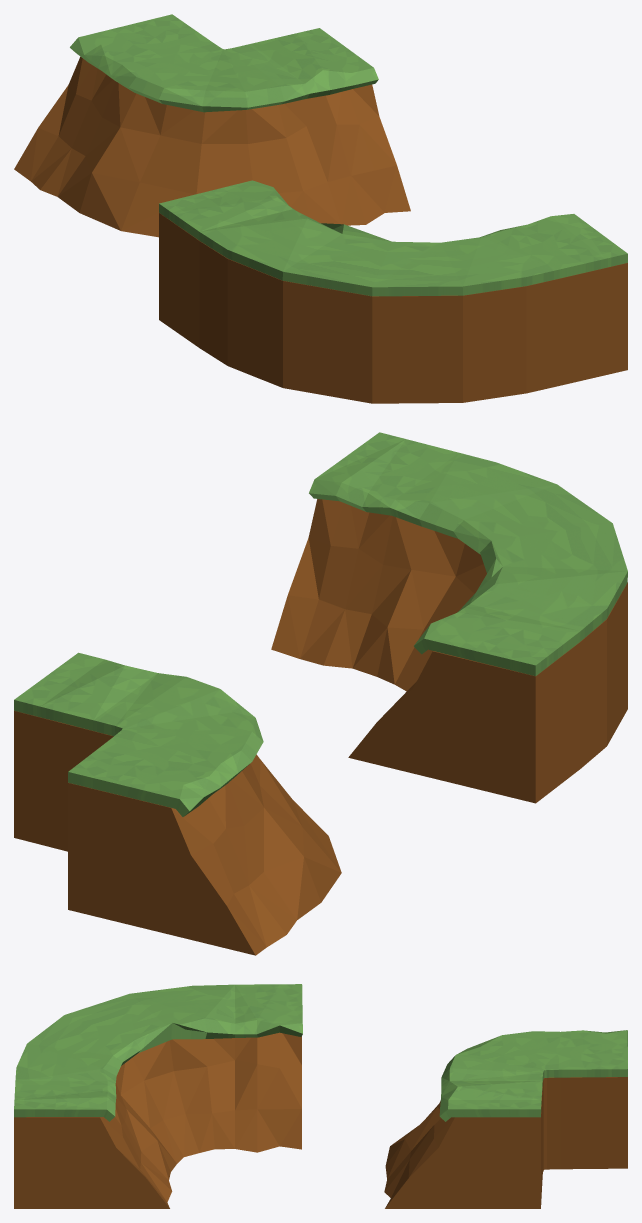
The model's file is Трава.fbx.
3 renders of one model, top to bottom at view 1: azimuth 30°, elevation 25°; view 2: azimuth 150°, elevation 25°; view 3: azimuth 270°, elevation 25°, orthographic. The views are drawn at different scales.
Visible parts, largest first — view 1: Куб.031, Куб.022; view 2: Куб.031, Куб.022; view 3: Куб.031, Куб.022.
Boxes of the visible parts, x1=… form: Куб.031: x1=159, y1=180, x2=627, y2=403; Куб.022: x1=14, y1=14, x2=410, y2=237; Куб.031: x1=271, y1=432, x2=627, y2=803; Куб.022: x1=14, y1=652, x2=341, y2=955; Куб.031: x1=14, y1=984, x2=302, y2=1208; Куб.022: x1=384, y1=1030, x2=627, y2=1208.
Size of the model in its own units: 2415 by 983 by 4993.
